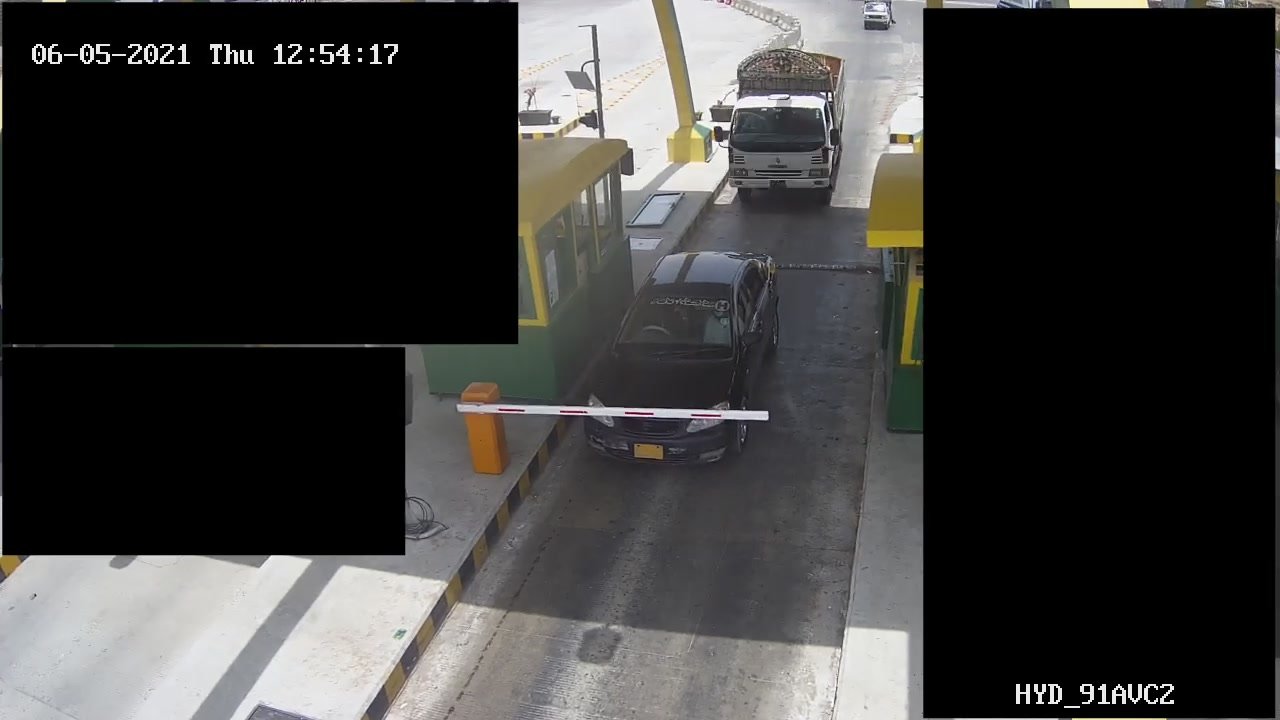F3: (718, 44, 853, 213)
